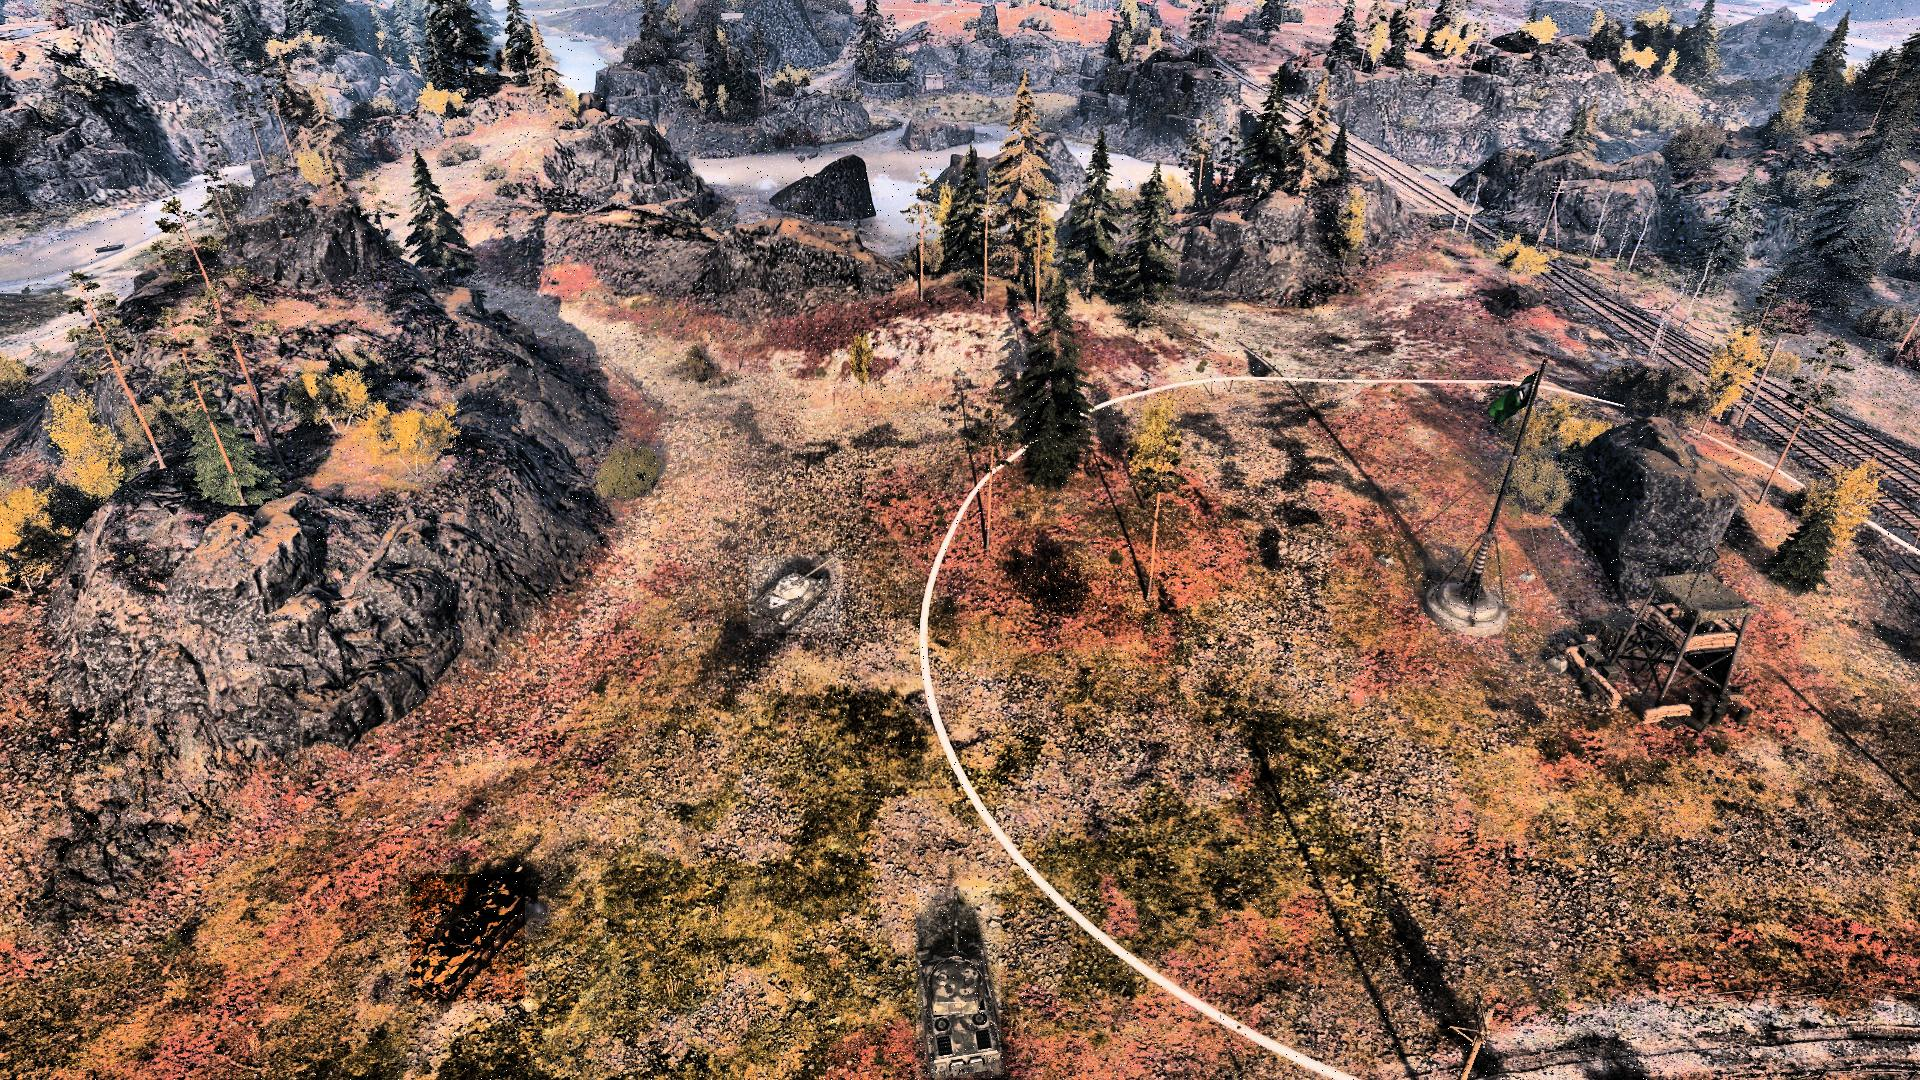military-vehicle: (916, 887, 1002, 1079), (410, 874, 525, 1002), (748, 555, 844, 633)
